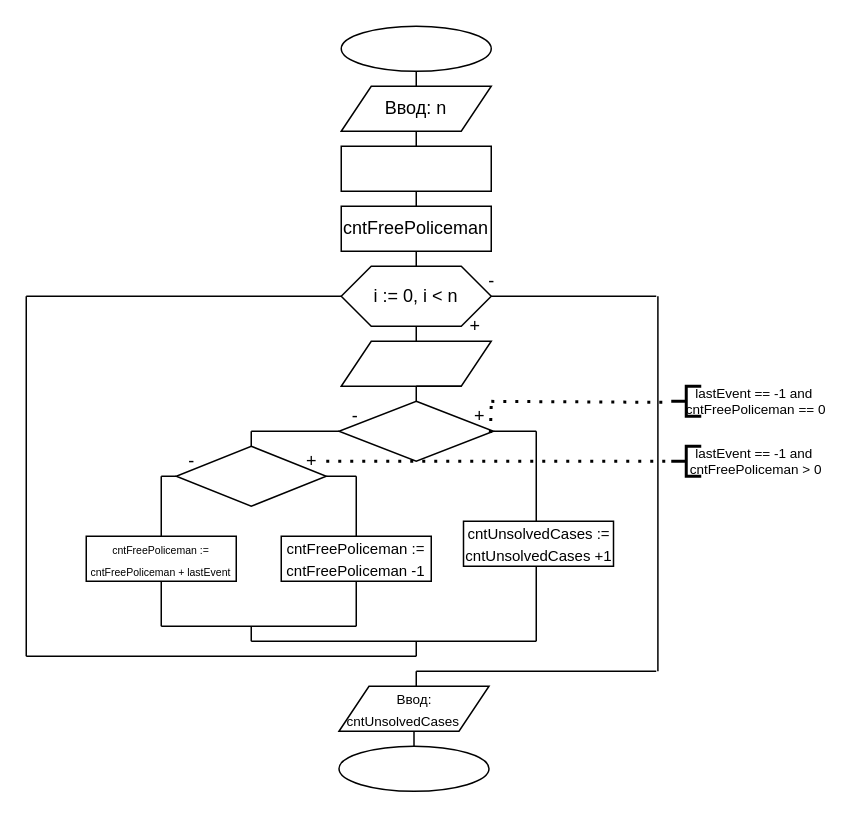
The diagram is 863 pixels wide and 818 high, and some of its shapes have lost their labels. The shapes that lost their labels are listed below. From the top down, each one's centre as x and y in pixels, then its label:
At (415,48): "Начало".
At (415,168): "cntUnsolvedCases := 0".
At (415,363): "Ввод: lastEvent".
At (413,768): "Конец".
